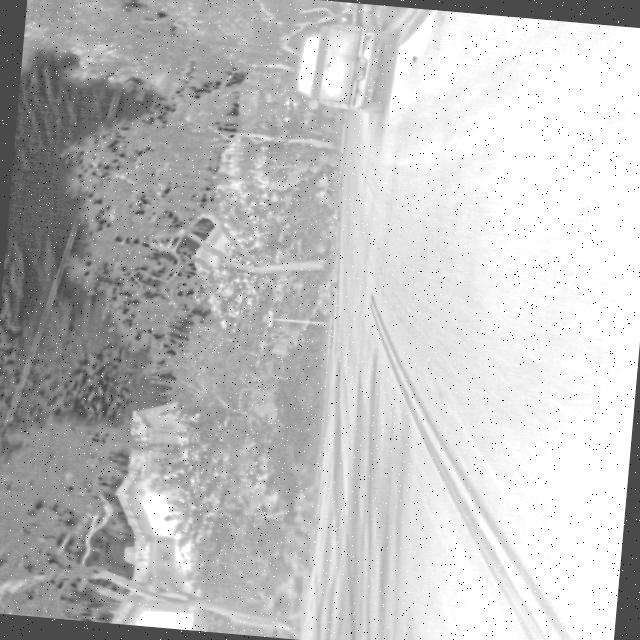Pedestrian: (30, 44, 352, 383)
Vehicle: (289, 17, 397, 117)
